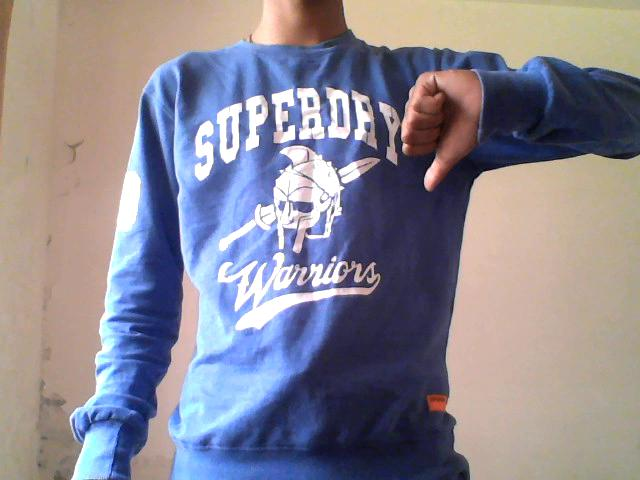thumbs-down: (379, 63, 549, 199)
